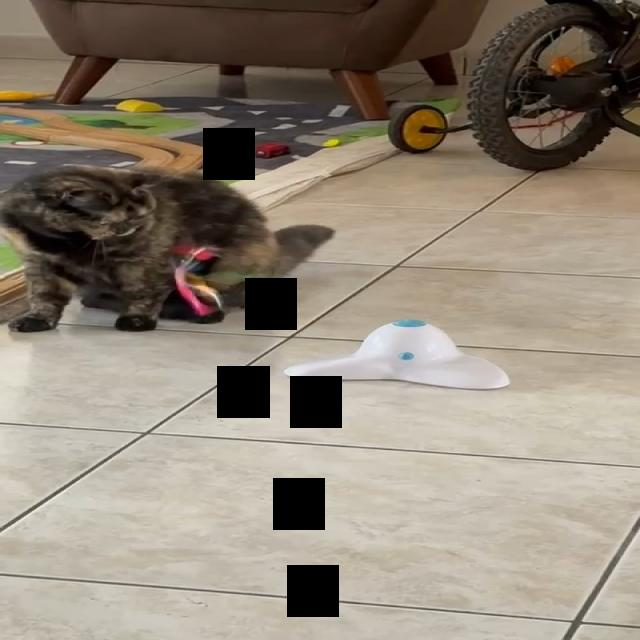authorized: (0, 163, 335, 332)
